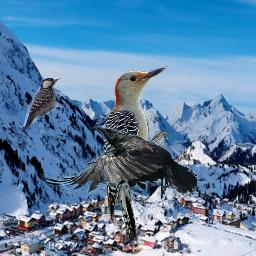Crow: (40, 125, 197, 202)
Woodpecker: (104, 63, 171, 252), (18, 74, 65, 135)
